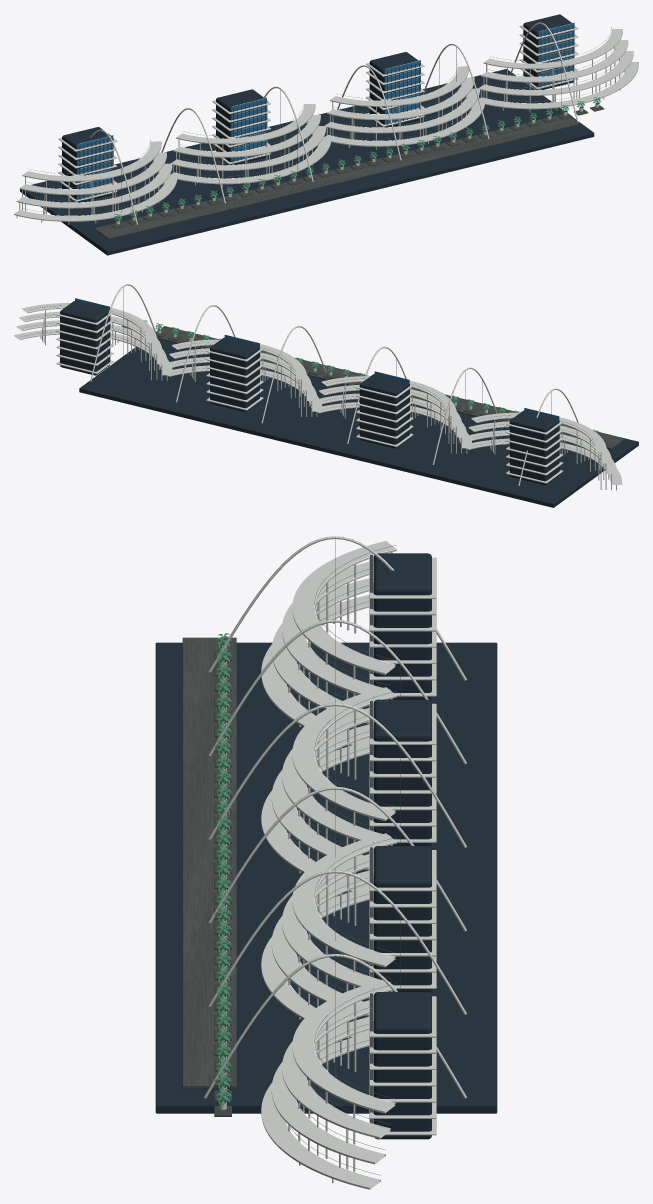
File: environment.glb
3 renders of one model, top to bottom at view 1: azimuth 30°, elevation 25°; view 2: azimuth 150°, elevation 25°; view 3: azimuth 270°, elevation 25°, orthographic. The views are drawn at different scales.
Visible parts, largest first — view 1: Static_ink graphite, Static_warm porcelain, Static_honed limestone, Static_blue ceramic, Static_brushed titanium, Static_mineral woven fabric, Static_living leaf, Static_warm light; view 2: Static_ink graphite, Static_warm porcelain, Static_honed limestone, Static_brushed titanium, Static_living leaf, Static_warm light, Static_mineral woven fabric, Static_blue ceramic; view 3: Static_ink graphite, Static_warm porcelain, Static_honed limestone, Static_living leaf, Static_mineral woven fabric, Static_brushed titanium, Static_warm light.
Boxes of the visible parts, x1=… form: Static_ink graphite: x1=20, y1=14, x2=598, y2=255; Static_warm porcelain: x1=14, y1=22, x2=638, y2=224; Static_honed limestone: x1=94, y1=114, x2=579, y2=239; Static_blue ceramic: x1=77, y1=22, x2=574, y2=199; Static_brushed titanium: x1=23, y1=25, x2=623, y2=213; Static_mineral woven fabric: x1=111, y1=102, x2=604, y2=228; Static_living leaf: x1=113, y1=97, x2=601, y2=221; Static_warm light: x1=21, y1=24, x2=623, y2=215; Static_ink graphite: x1=60, y1=301, x2=638, y2=507; Static_warm porcelain: x1=14, y1=284, x2=622, y2=490; Static_honed limestone: x1=157, y1=326, x2=624, y2=449; Static_brushed titanium: x1=21, y1=287, x2=610, y2=481; Static_living leaf: x1=124, y1=318, x2=598, y2=434; Static_warm light: x1=21, y1=307, x2=610, y2=483; Static_mineral woven fabric: x1=121, y1=326, x2=580, y2=439; Static_blue ceramic: x1=75, y1=298, x2=559, y2=418; Static_ink graphite: x1=155, y1=553, x2=497, y2=1139; Static_warm porcelain: x1=204, y1=536, x2=466, y2=1189; Static_honed limestone: x1=182, y1=637, x2=236, y2=1088; Static_living leaf: x1=214, y1=633, x2=231, y2=1105; Static_mineral woven fabric: x1=214, y1=639, x2=231, y2=1116; Static_brushed titanium: x1=290, y1=539, x2=400, y2=1175; Static_warm light: x1=286, y1=549, x2=396, y2=1179.
Bounding box in the file's own units: 313 × 38.32 × 76.
Materials: 8 (3 with a texture image).
